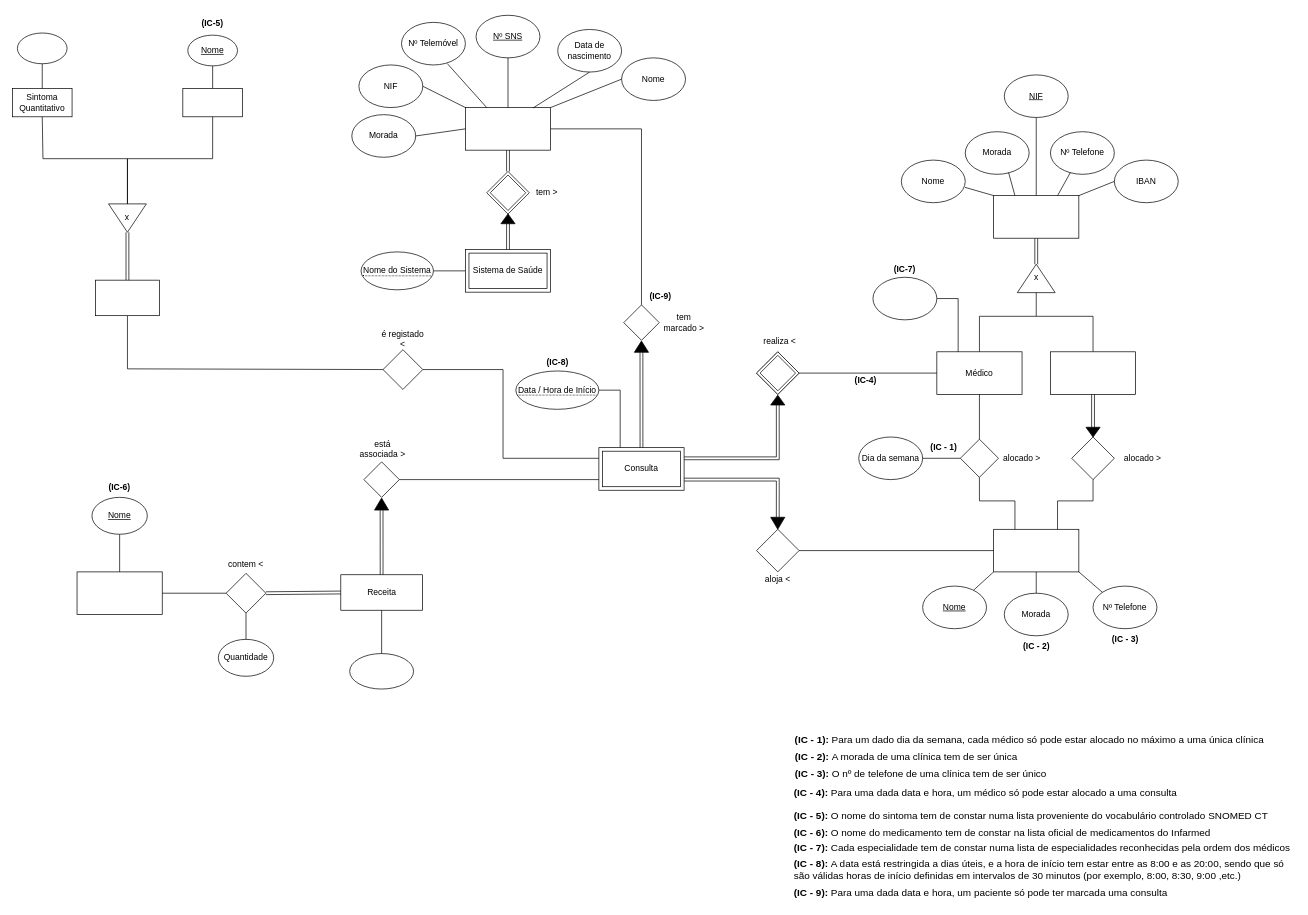
Some shapes in this 1308 by 915 pixel diagram are drawn without their labels. Here are the shapes that lost their labels. From the top down, the centre of each, then its label:
the point at 42,48: Valor
the point at 212,102: Sintoma Qualitativo
the point at 508,128: Paciente
the point at 1036,216: Profissional de Saúde
the point at 127,297: Sintoma
the point at 904,298: Especialidade
the point at 1093,372: Enfermeiro
the point at 1036,550: Clínica
the point at 119,593: Medicamento
the point at 381,671: Código do SNS
